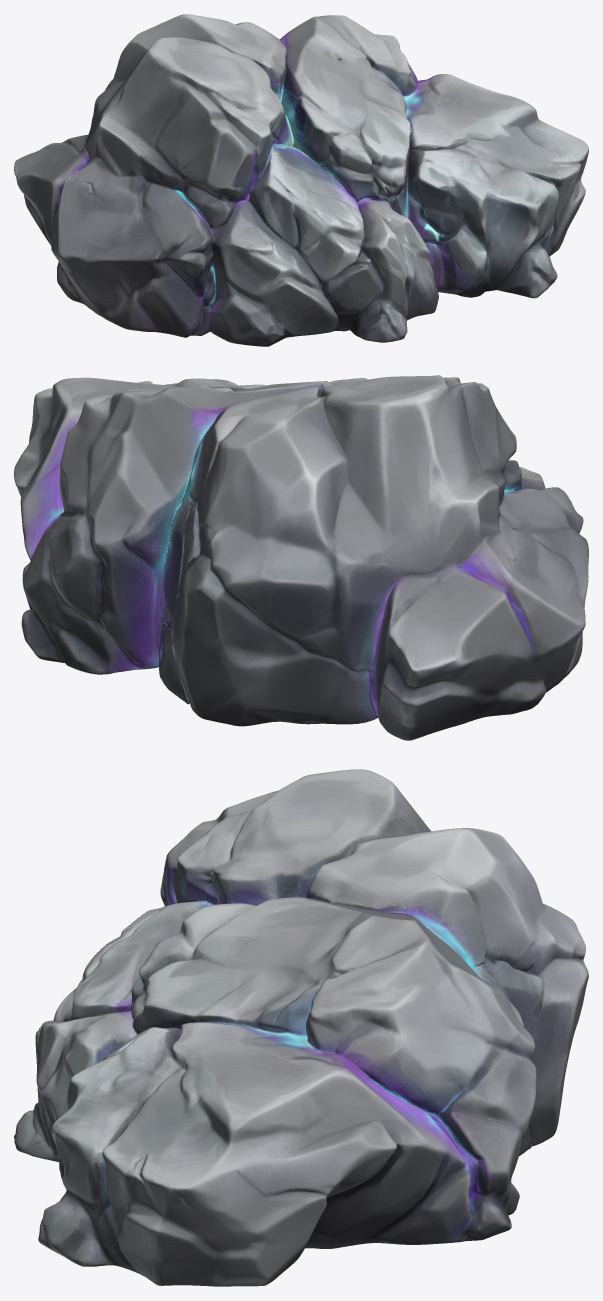
Rendered from Meshy_AI_Azure_Veinstone_0216151428_texture.fbx.
3 renders of one model, top to bottom at view 1: azimuth 30°, elevation 25°; view 2: azimuth 150°, elevation 25°; view 3: azimuth 270°, elevation 25°, orthographic. The views are drawn at different scales.
Visible parts, largest first — view 1: Mesh_0; view 2: Mesh_0; view 3: Mesh_0.
Part boxes in pixels (box(x1,y1,x2,y2)): Mesh_0: box(14, 14, 588, 346); Mesh_0: box(14, 375, 588, 740); Mesh_0: box(14, 769, 588, 1286).
Bounding box in the file's own units: 190 × 85.47 × 148.
1 material, 1 textured.
